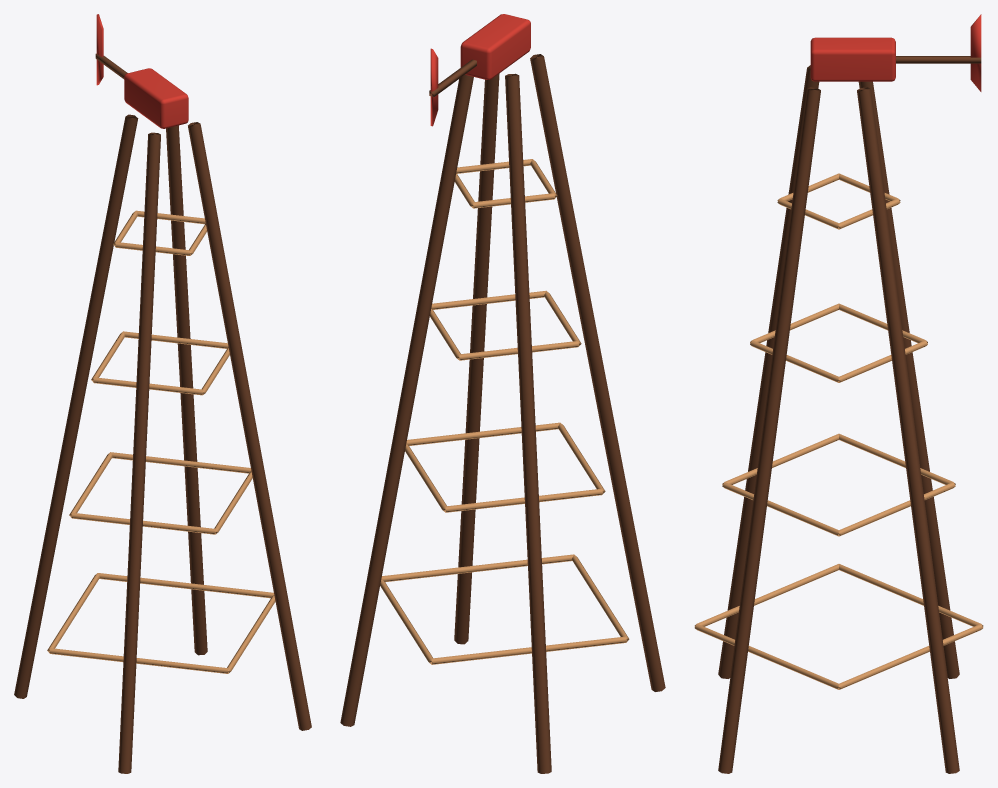
The model's file is gulch_windmill.glb.
The picture shows the model from 3 angles, left to right: view 1: azimuth 30°, elevation 25°; view 2: azimuth 150°, elevation 25°; view 3: azimuth 270°, elevation 25°; orthographic projection. The views are drawn at different scales.
Parts seen in each view (by area): view 1: Windmill; view 2: Windmill; view 3: Windmill.
Part boxes in pixels (box(x1,y1,x2,y2)): Windmill: box(14, 14, 311, 773); Windmill: box(340, 14, 665, 773); Windmill: box(694, 14, 983, 773).
Bounding box in the file's own units: 4.07 × 11.02 × 4.07.
